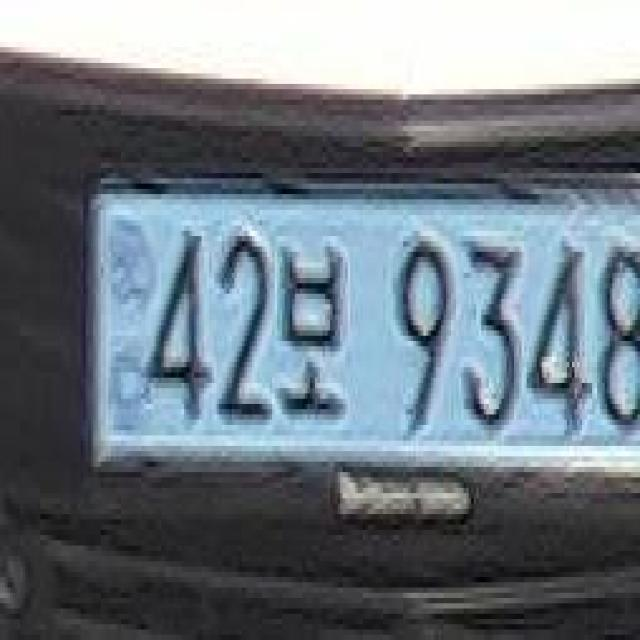EV_plate: (72, 144, 640, 535)
